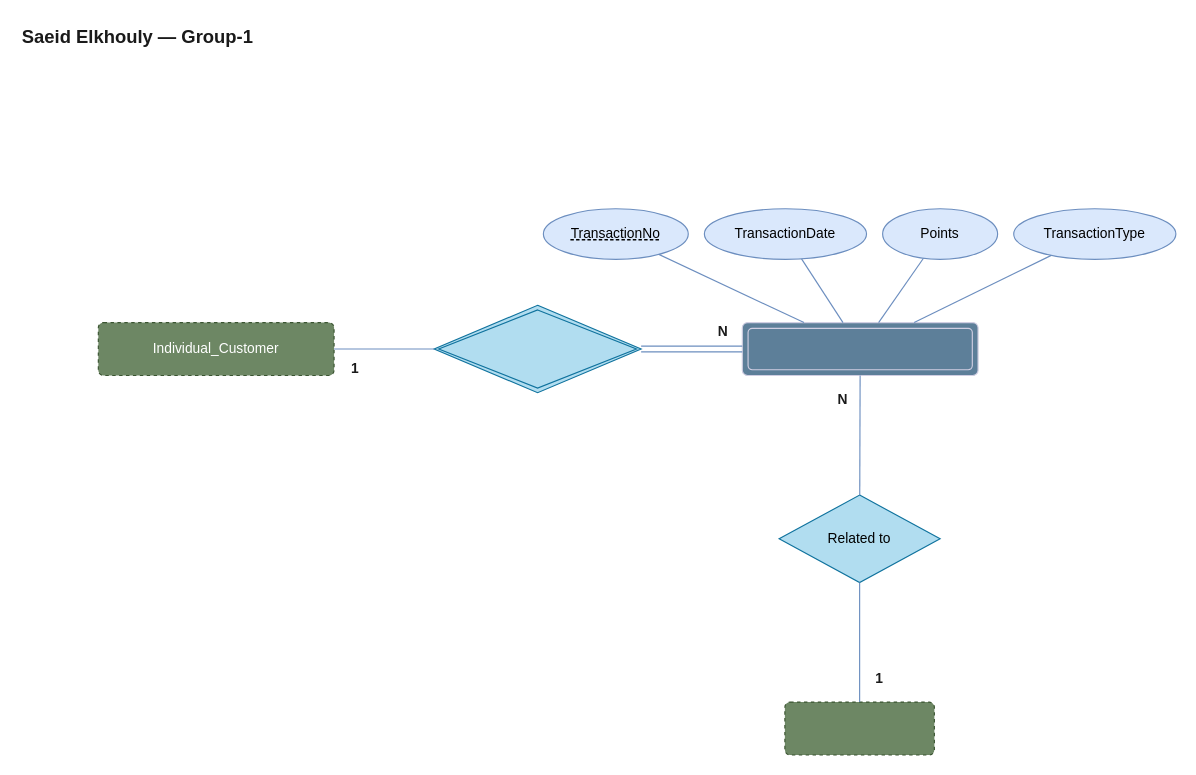
Some shapes in this 1196 by 775 pixel diagram are drawn without their labels. The shapes that lost their labels are listed below. From the top down, each one's centre as x and y in pixels, then its label:
At point 537,348: "Earns / redeems".
At point 859,348: "Loyalty_Transaction".
At point 859,728: "Rental".
